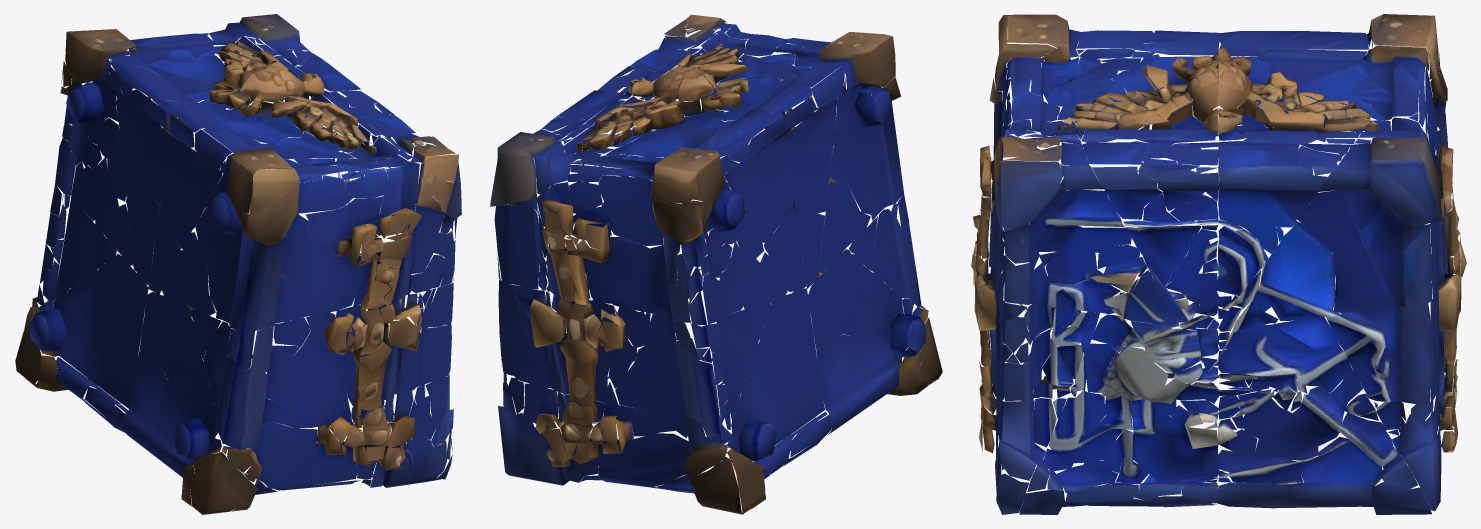
3 renders of one model, left to right at view 1: azimuth 30°, elevation 25°; view 2: azimuth 150°, elevation 25°; view 3: azimuth 270°, elevation 25°, orthographic. The views are drawn at different scales.
Visible parts, largest first — view 1: W203; view 2: W203; view 3: W203.
Boxes of the visible parts, <box> form: W203: <box>15,14,461,514</box>; W203: <box>490,14,942,514</box>; W203: <box>971,14,1466,514</box>.
Size of the model in its own units: 0.2568 by 0.3363 by 0.3708.
1 material, 1 textured.
